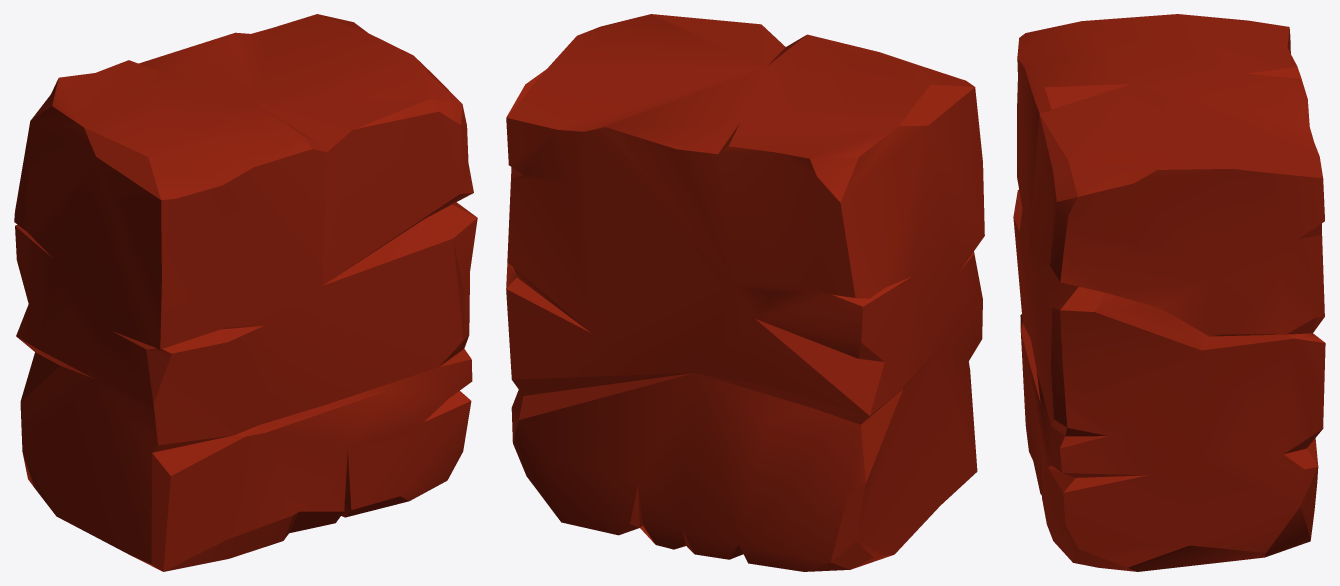
File: SM_Rock_Square_02.fbx
3 views of the same model, side by side, from view 1: azimuth 30°, elevation 25°; view 2: azimuth 150°, elevation 25°; view 3: azimuth 270°, elevation 25° (orthographic). The views are drawn at different scales.
Parts seen in each view (by area): view 1: gegerock4_1; view 2: gegerock4_1; view 3: gegerock4_1.
Boxes of the visible parts, <box> form: gegerock4_1: <box>14,14,477,571</box>; gegerock4_1: <box>506,14,984,571</box>; gegerock4_1: <box>1013,14,1325,571</box>.
Bounding box in the file's own units: 245 × 264 × 182.
